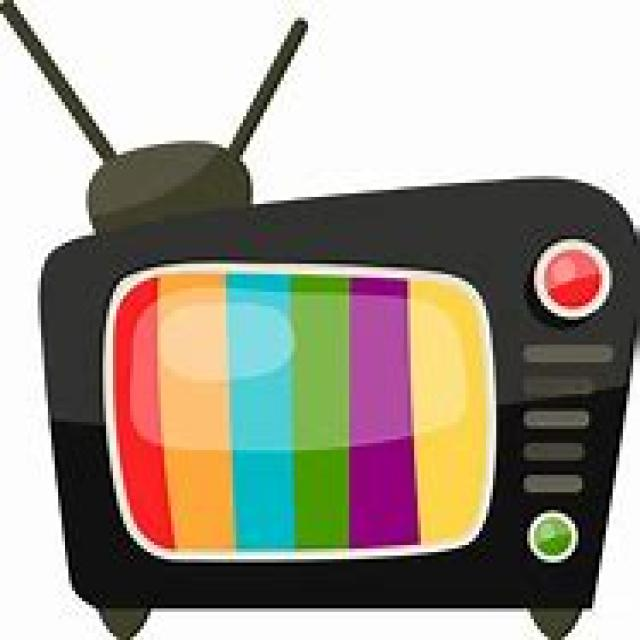tv: (38, 173, 636, 636)
